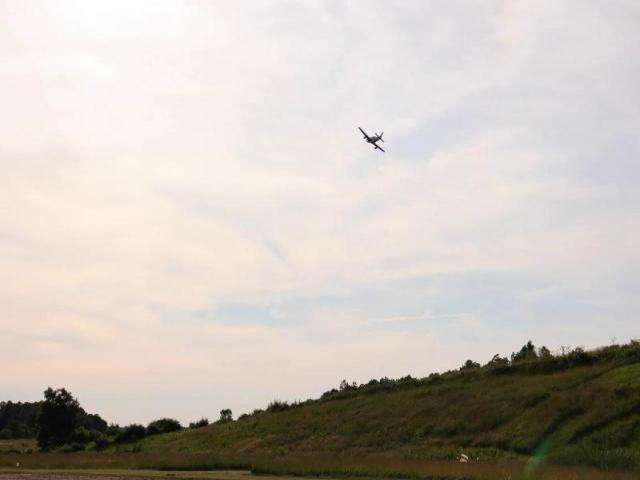hedef: (354, 122, 391, 161)
